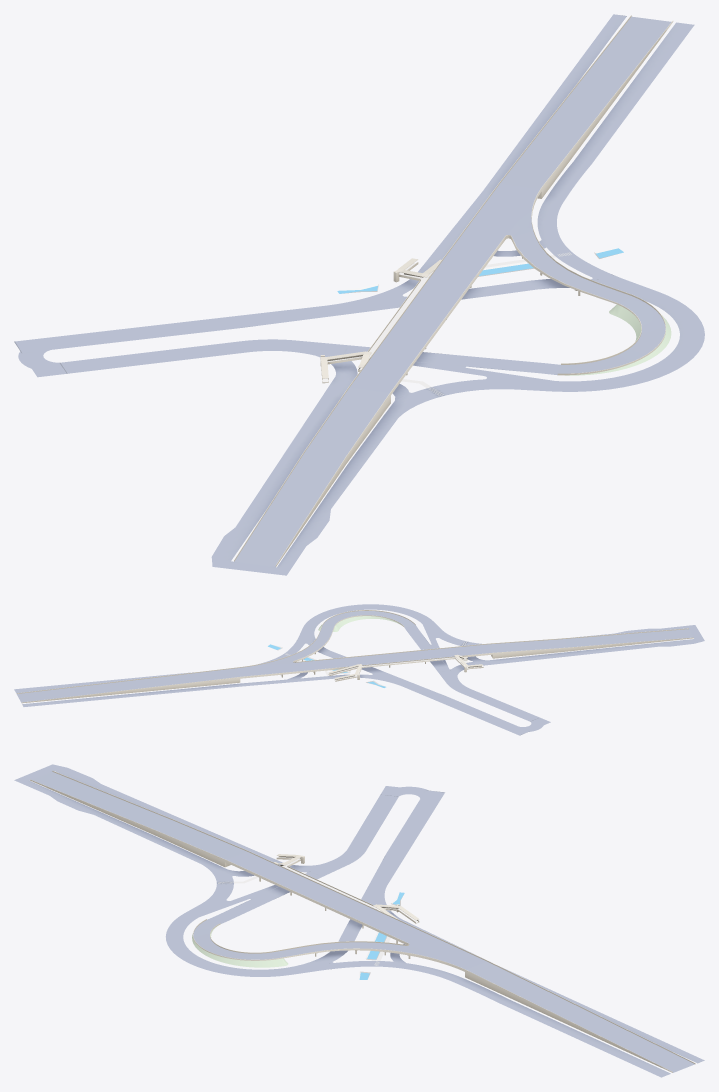
Rendered from Riskulov-Kuldzhinsky-colored.glb.
3 views of the same model, one above another, from view 1: azimuth 30°, elevation 25°; view 2: azimuth 150°, elevation 25°; view 3: azimuth 270°, elevation 25° (orthographic). The views are drawn at different scales.
Visible parts, largest first — view 1: group_2, group_7.002, group_5, group_3; view 2: group_2, group_7.002, group_5, group_3; view 3: group_2, group_7.002, group_3, group_5.
Boxes of the visible parts, x1,y1,x2,y2 form: group_2: (14, 14, 704, 575); group_7.002: (234, 15, 673, 566); group_5: (322, 248, 617, 388); group_3: (565, 304, 671, 375); group_2: (14, 604, 704, 735); group_7.002: (16, 610, 693, 703); group_5: (273, 645, 482, 686); group_3: (318, 616, 402, 631); group_2: (14, 764, 704, 1077); group_7.002: (30, 770, 695, 1072); group_3: (192, 925, 288, 967); group_5: (233, 857, 418, 977).
Bounding box in the file's own units: 674 × 11 × 628.
7 materials, 3 textured.
